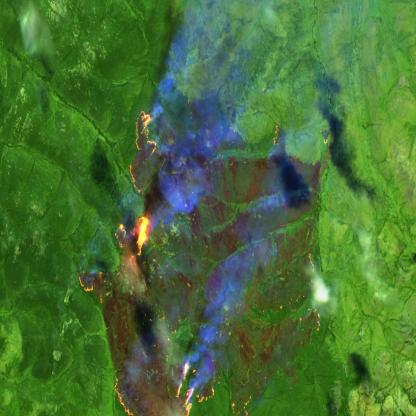fire: (76, 103, 252, 416)
